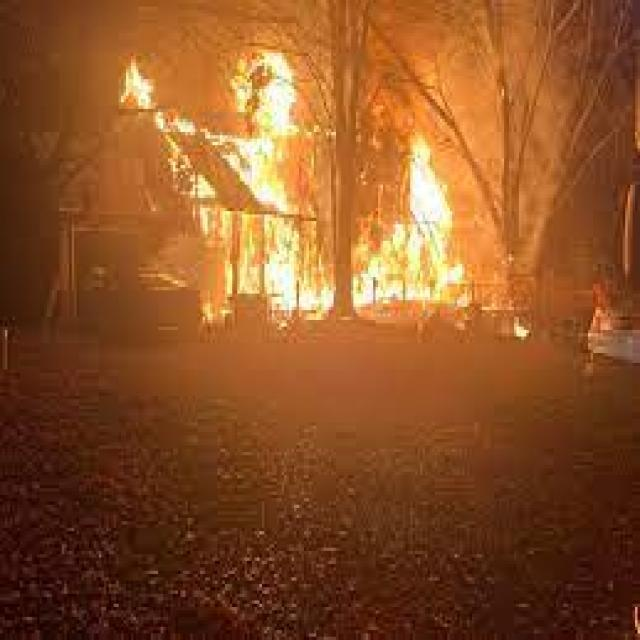Fire: (143, 46, 492, 347)
